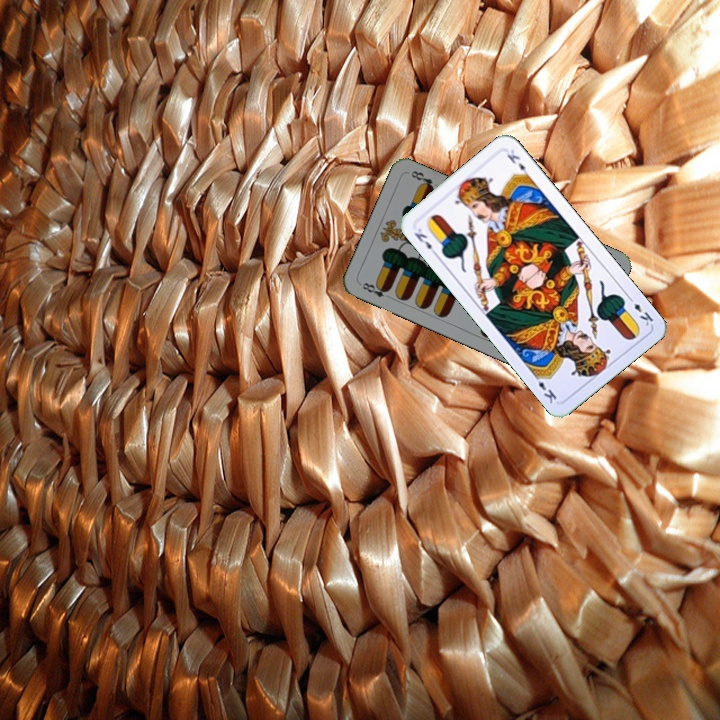E8: (356, 278, 394, 302)
EK: (624, 292, 656, 329), (410, 224, 440, 258)
